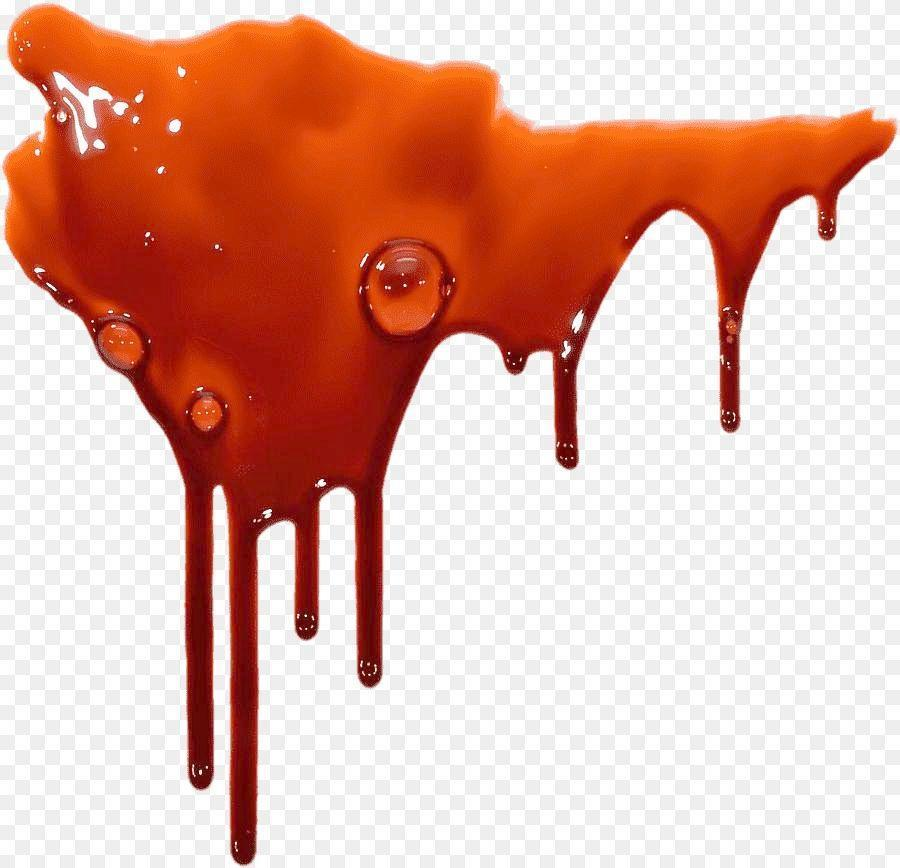Bloodstain-Detection: (17, 10, 598, 495)
